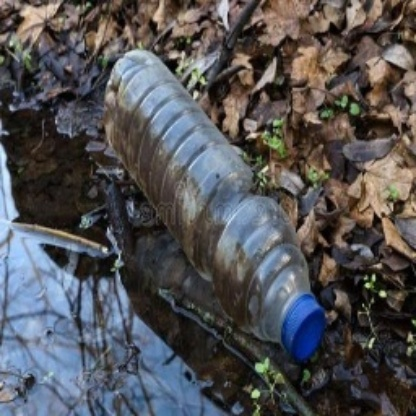bottle: (100, 47, 327, 360)
